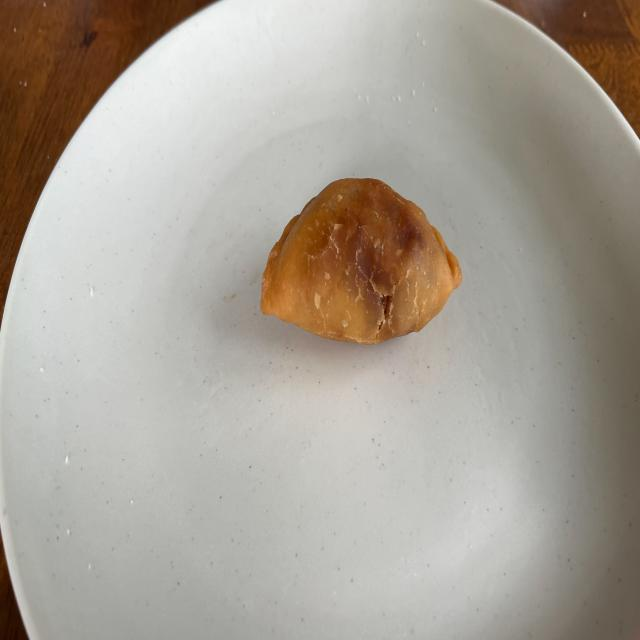karipap: (260, 178, 462, 344)
